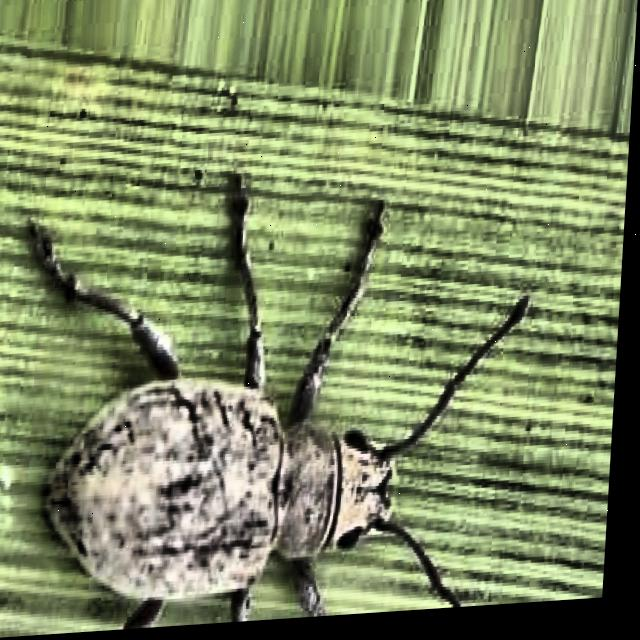Stink bug: (22, 168, 475, 637)
